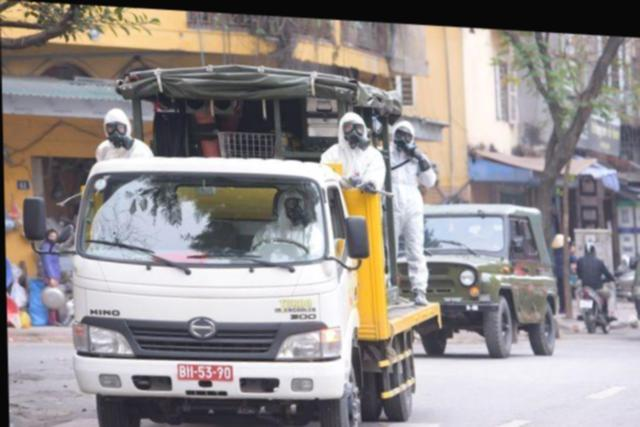License_Plate: (174, 362, 234, 385)
